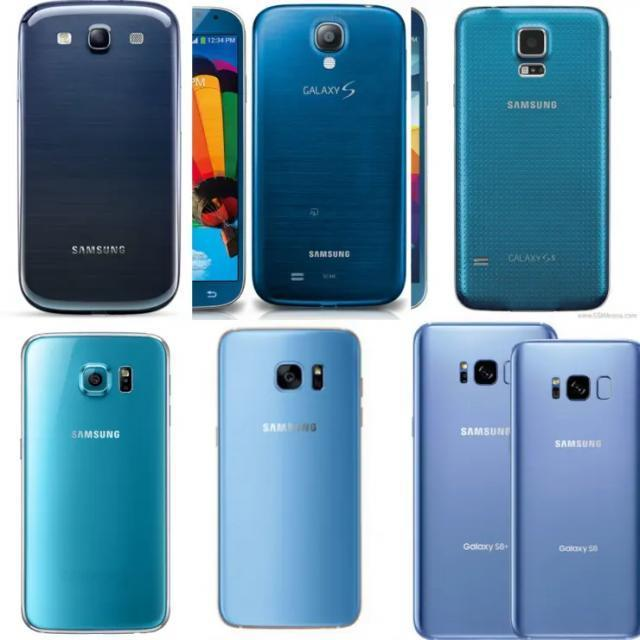phone: (22, 4, 182, 313), (454, 5, 610, 310), (254, 2, 406, 308), (23, 332, 168, 632), (218, 328, 362, 628)
